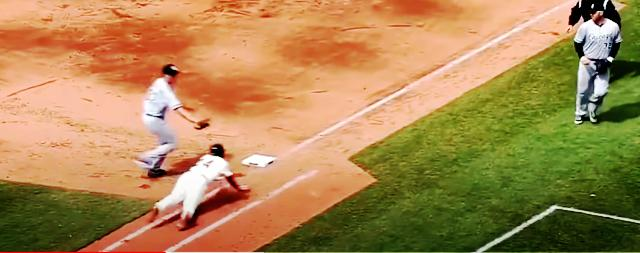jatuh: (140, 138, 256, 234)
